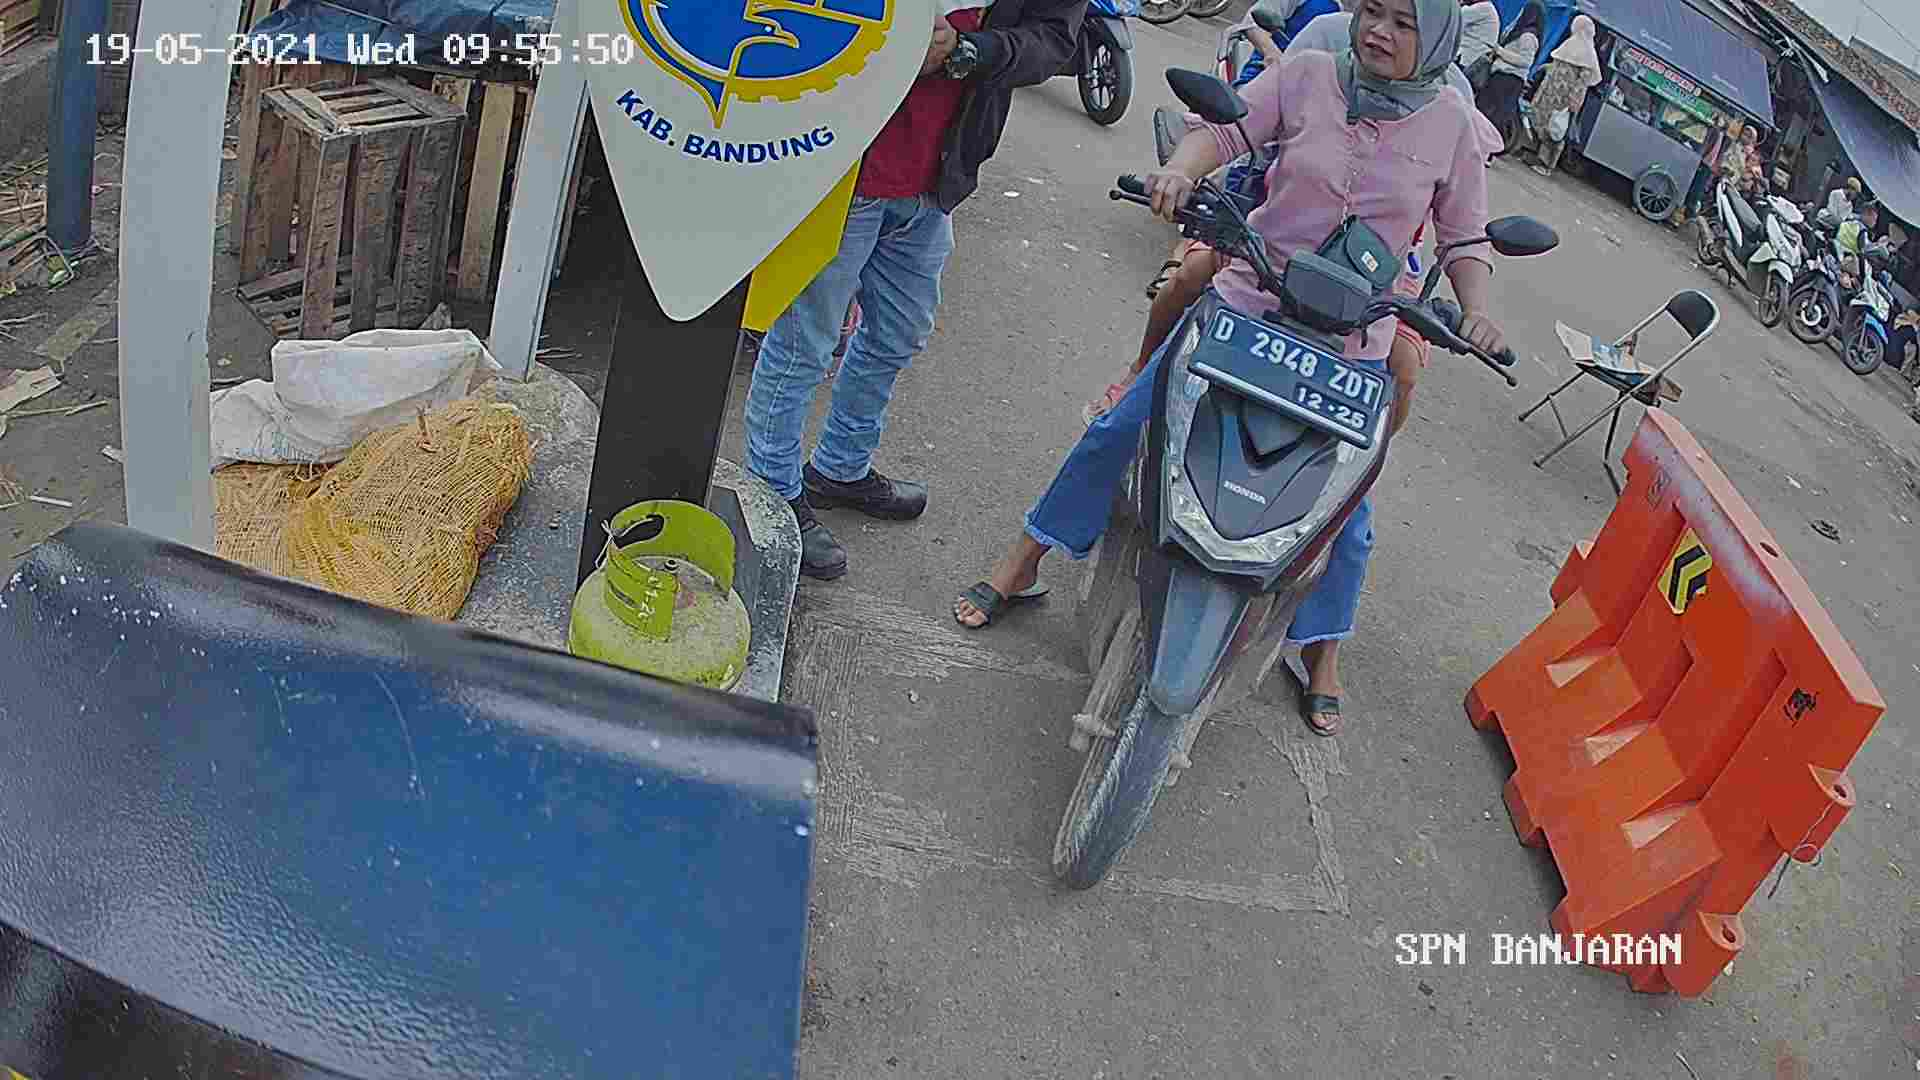motor: (1051, 210, 1428, 899)
